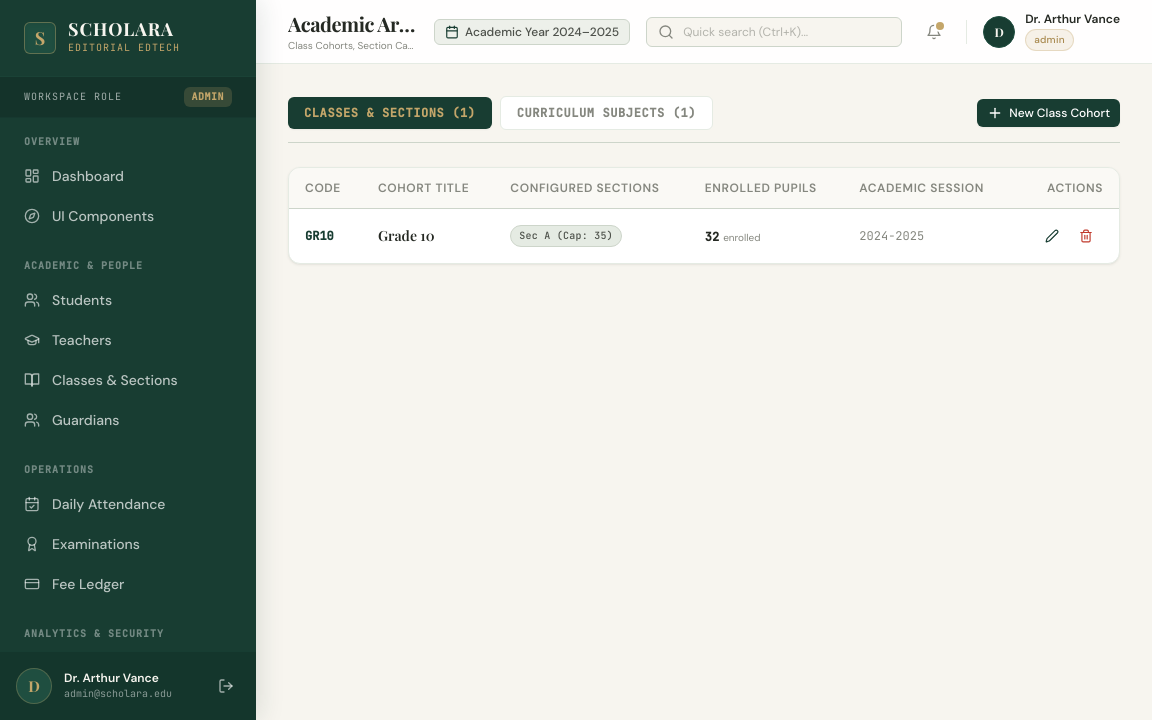
Test: SCHOLARA Academic and User Management Component Suite › AcademicManagement › renders tabs and toggles between Classes and Subjects view
Expected: the button "Classes & Sections (1)" is shown, [288,97,492,129]
Expected: the text "GR10" is shown, [289,208,362,263]
Switch to subjects tab
Click the button "Curriculum Subjects (1)" at (606, 113), box [500,96,713,130]
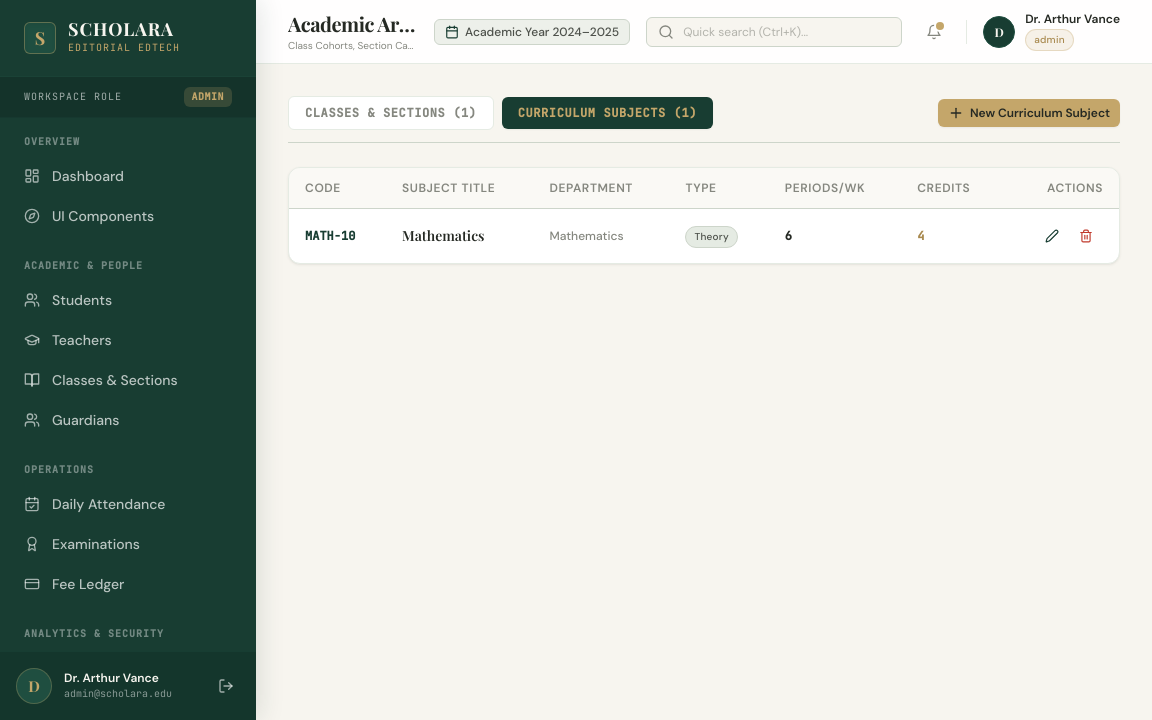
Now the text "MATH-10" is shown, box [289,208,386,263]
Now the 1st cell "Mathematics" is shown, box [386,208,534,263]
